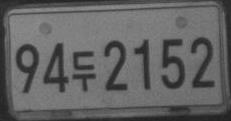1: (132, 38, 158, 89)
2: (189, 36, 215, 87), (103, 39, 128, 90)
4: (42, 42, 69, 93)
5: (160, 38, 185, 88)
9: (14, 42, 39, 93)
두: (71, 50, 96, 91)
